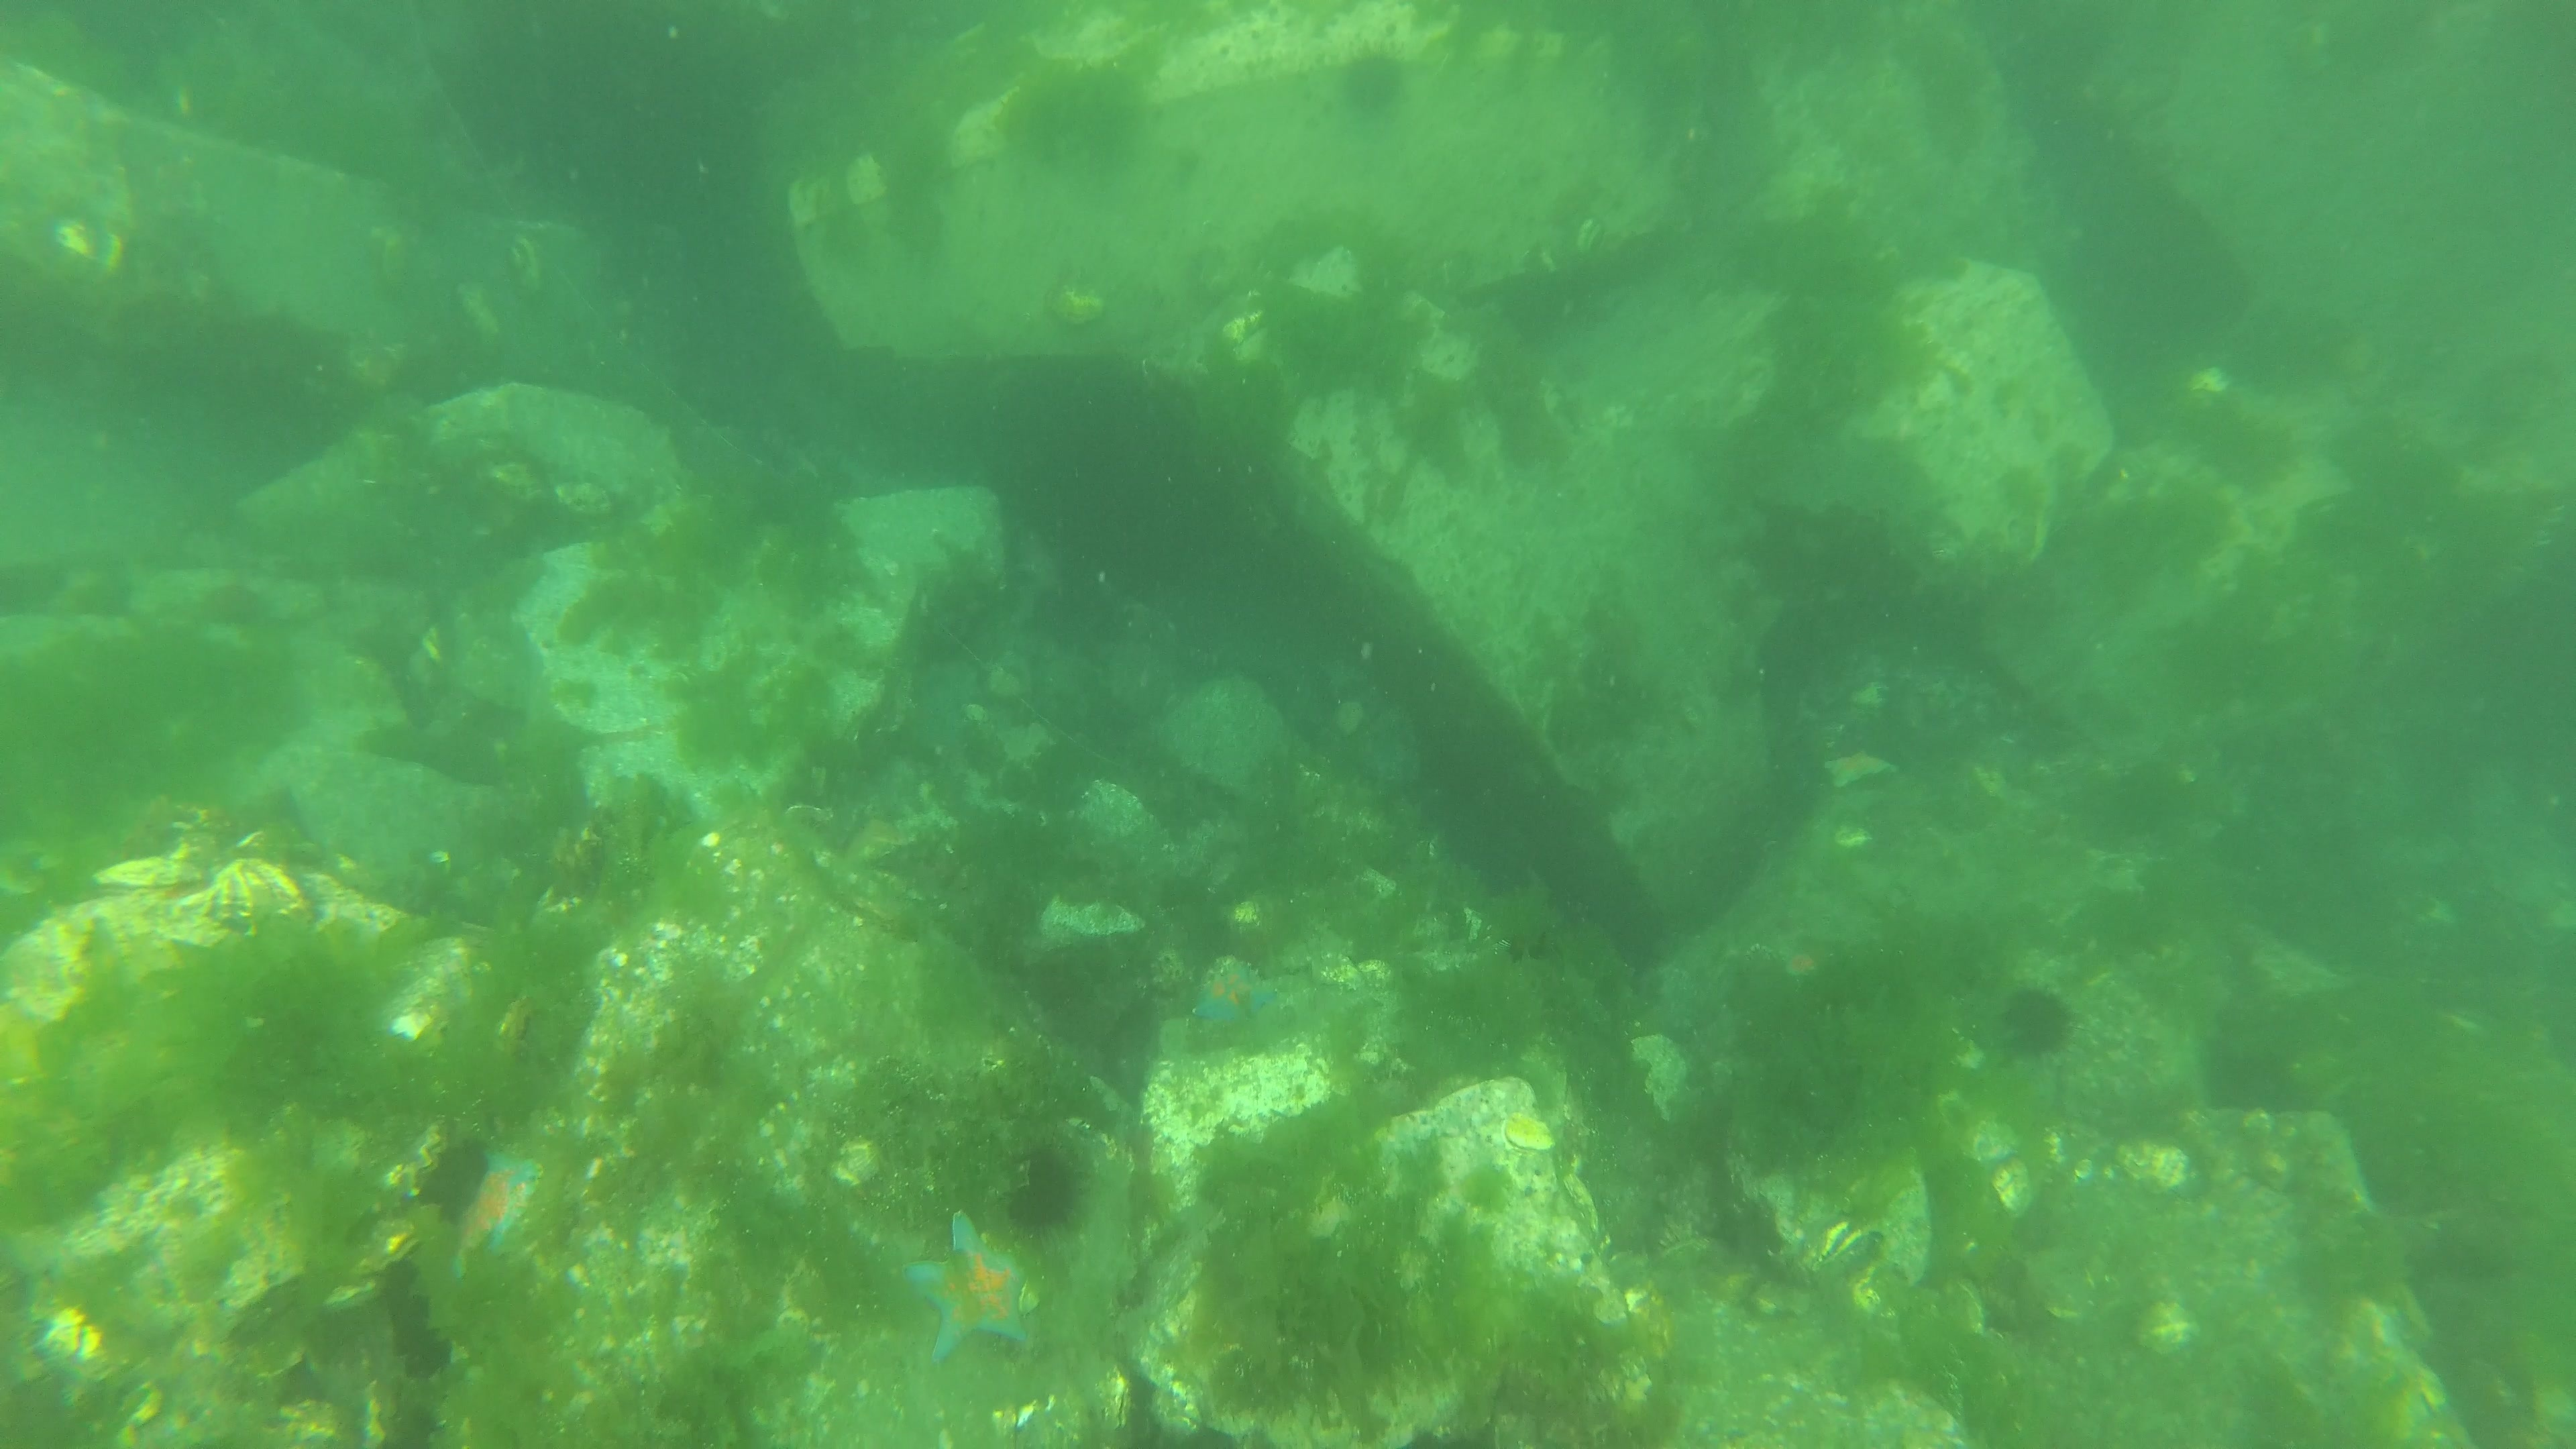echinus: (1001, 1132, 1097, 1233), (1990, 980, 2084, 1063), (1334, 37, 1414, 117)
starfish: (897, 1210, 1039, 1366), (448, 1145, 548, 1284), (1187, 954, 1284, 1033), (1819, 741, 1900, 794), (1771, 943, 1828, 984)
